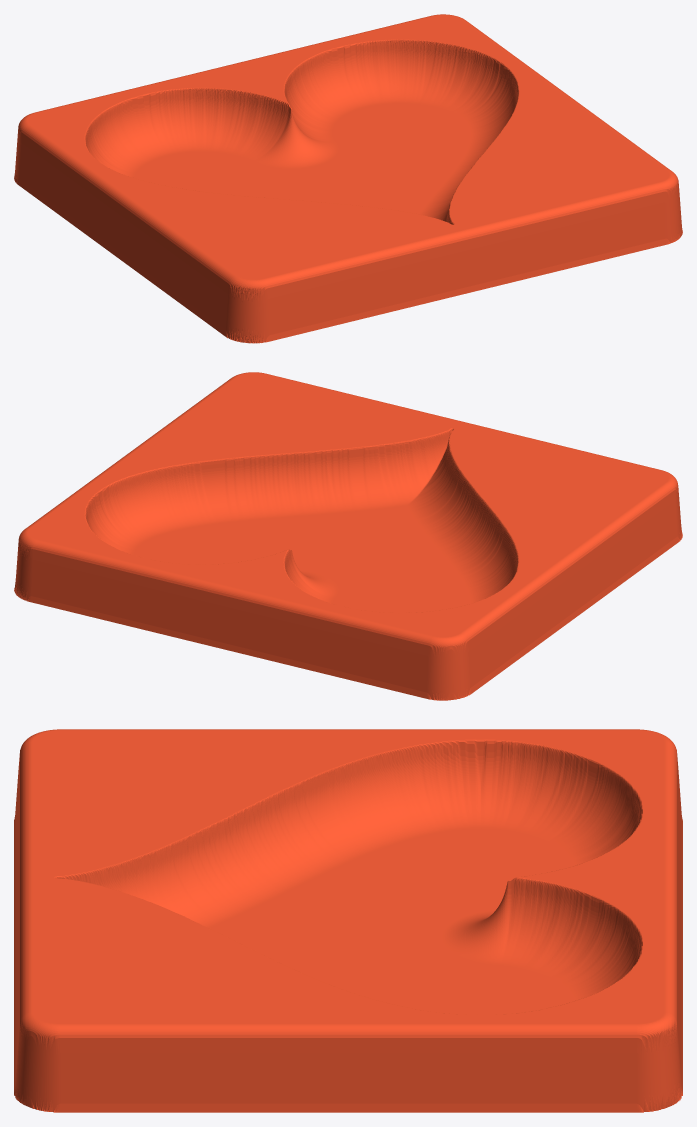
File: mold.glb
3 views of the same model, one above another, from view 1: azimuth 30°, elevation 25°; view 2: azimuth 150°, elevation 25°; view 3: azimuth 270°, elevation 25° (orthographic). The views are drawn at different scales.
Visible parts, largest first — view 1: geometry_0; view 2: geometry_0; view 3: geometry_0.
Part boxes in pixels (<box>): geometry_0: <box>14,14,682,343</box>; geometry_0: <box>14,372,682,700</box>; geometry_0: <box>14,729,682,1112</box>.
Bounding box in the file's own units: 0.1435 × 0.0175 × 0.1313.
